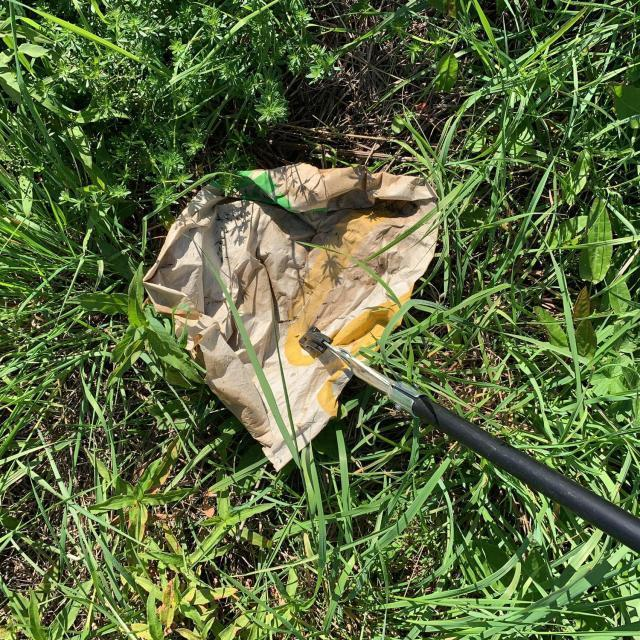Paper: (141, 159, 442, 474)
